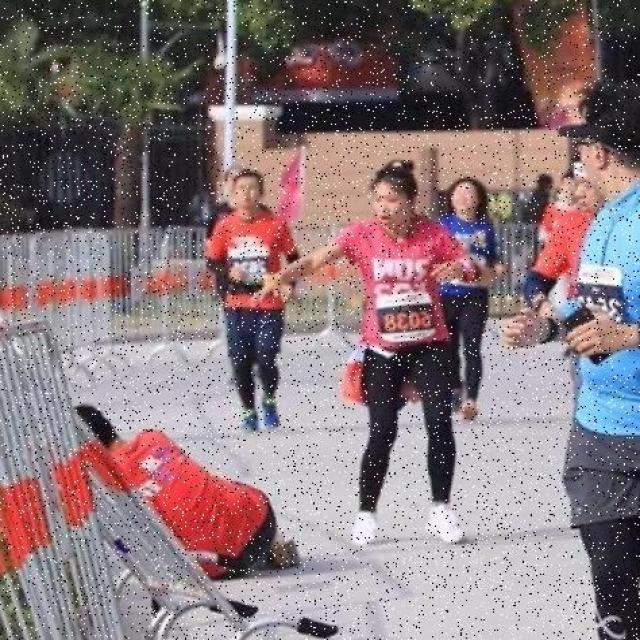fall: (65, 406, 297, 564)
